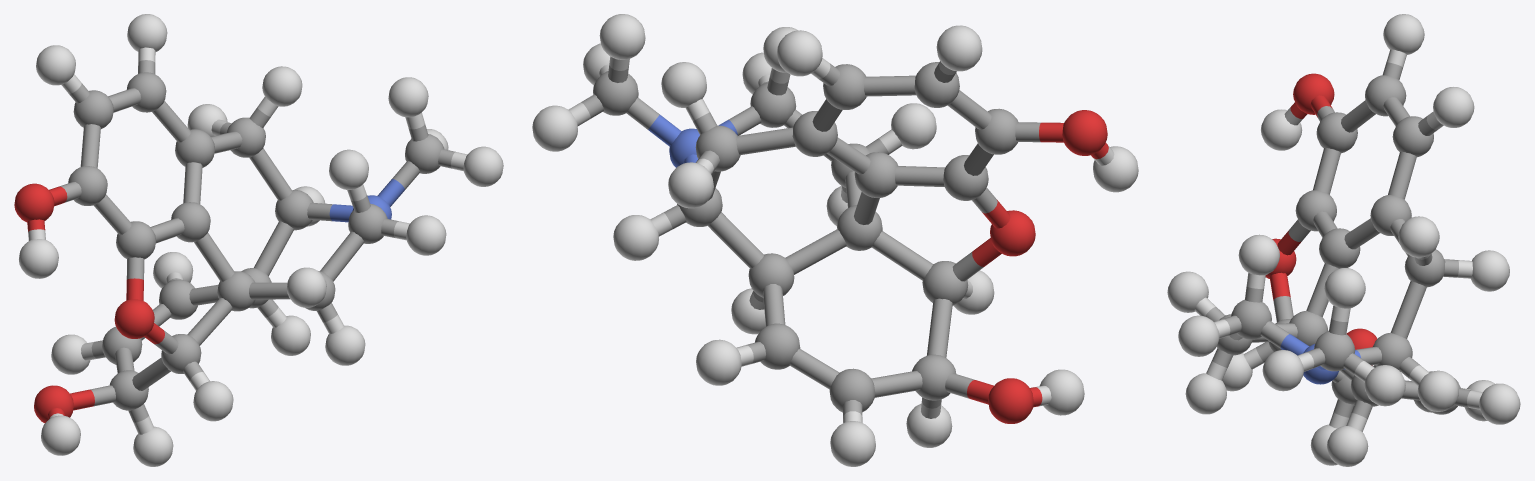
The model's file is morphine-bas.glb.
The picture shows the model from 3 angles, left to right: view 1: azimuth 30°, elevation 25°; view 2: azimuth 150°, elevation 25°; view 3: azimuth 270°, elevation 25°; orthographic projection. The views are drawn at different scales.
Visible parts, largest first — view 1: morphine-bas; view 2: morphine-bas; view 3: morphine-bas.
Boxes of the visible parts, <box> form: morphine-bas: <box>14,14,503,466</box>; morphine-bas: <box>532,14,1138,466</box>; morphine-bas: <box>1167,14,1520,466</box>.
Size of the model in its own units: 9.59 by 7.77 by 5.96.
